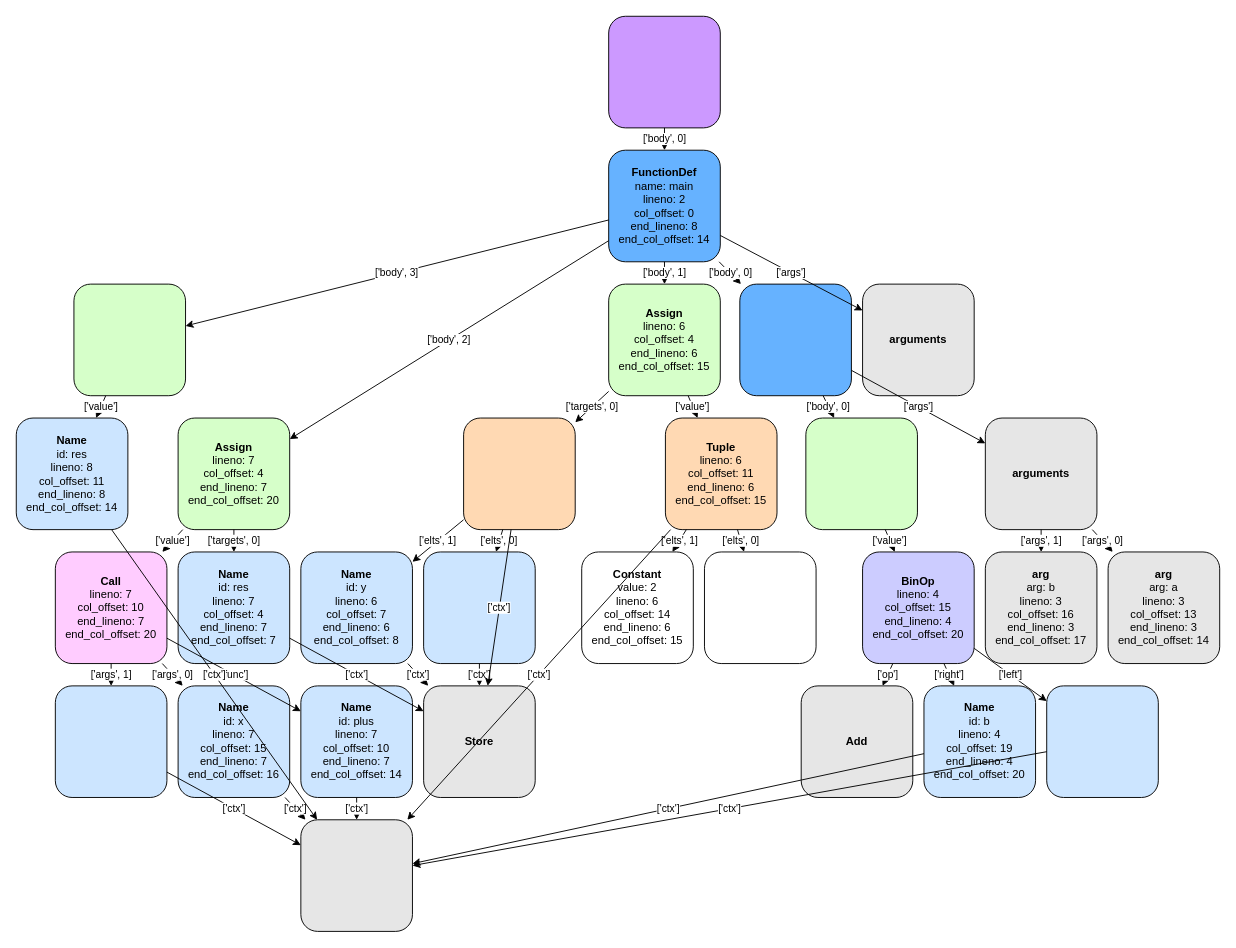
Image size: 1236x948. Some labels were removed from this diagram. Here are the shapes that lost their labels. From the top down, the centre of each, then its label:
At pixel 664 71: "Module".
At pixel 129 339: "Return lineno: 8 col_offset: 4 end_lineno: 8 end_col_offset: 14".
At pixel 795 339: "FunctionDef name: plus lineno: 3 col_offset: 4 end_lineno: 4 end_col_offset: 20".
At pixel 519 473: "Tuple lineno: 6 col_offset: 4 end_lineno: 6 end_col_offset: 8".
At pixel 861 473: "Return lineno: 4 col_offset: 8 end_lineno: 4 end_col_offset: 20".
At pixel 479 607: "Name id: x lineno: 6 col_offset: 4 end_lineno: 6 end_col_offset: 5".
At pixel 760 607: "Constant value: 1 lineno: 6 col_offset: 11 end_lineno: 6 end_col_offset: 12".
At pixel 110 741: "Name id: y lineno: 7 col_offset: 18 end_lineno: 7 end_col_offset: 19".
At pixel 1102 741: "Name id: a lineno: 4 col_offset: 15 end_lineno: 4 end_col_offset: 16".
At pixel 356 875: "Load".
